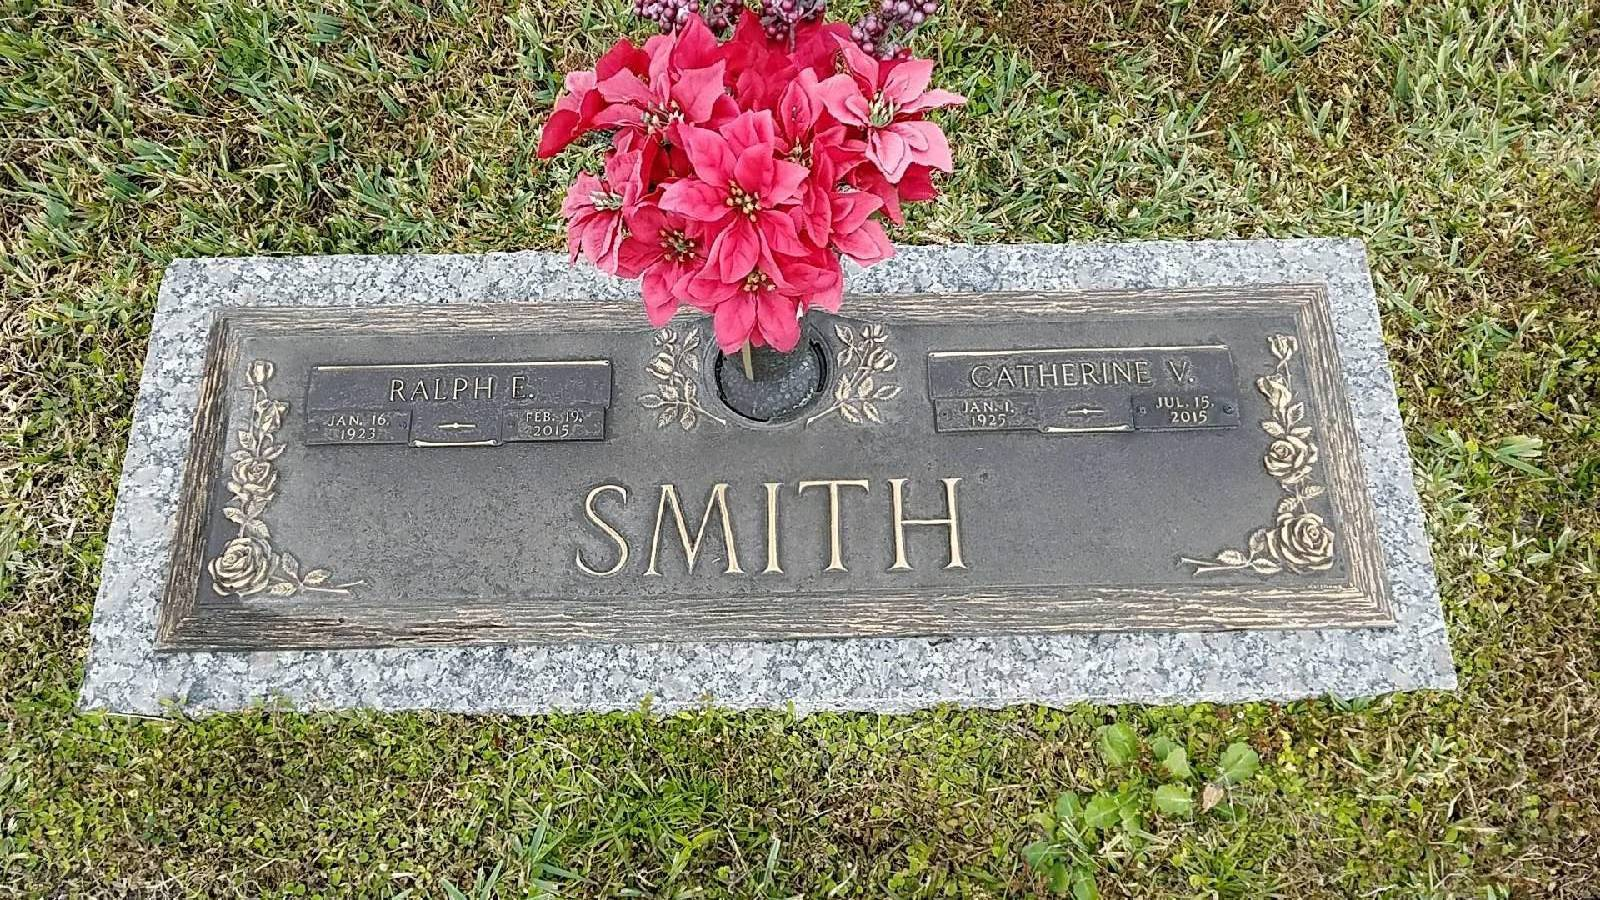flat: (81, 226, 1462, 702)
